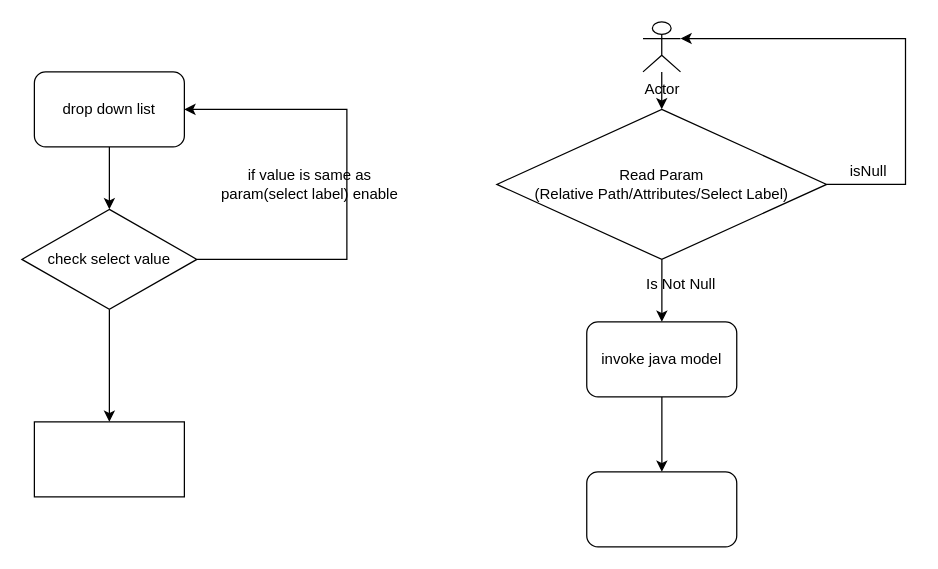
Image size: 938x569. Some labels were removed from this diagram. Each missing label, with the centre of its shape:
copy select value: (108,459)
generate drop down list with model data: (661,509)
